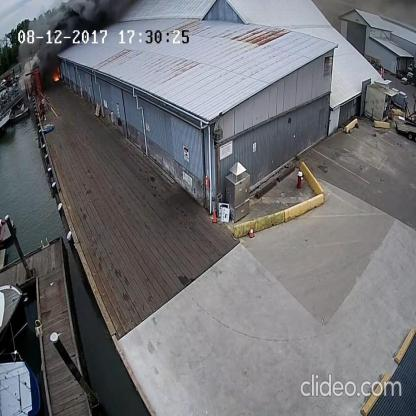fire: (52, 72, 61, 84)
